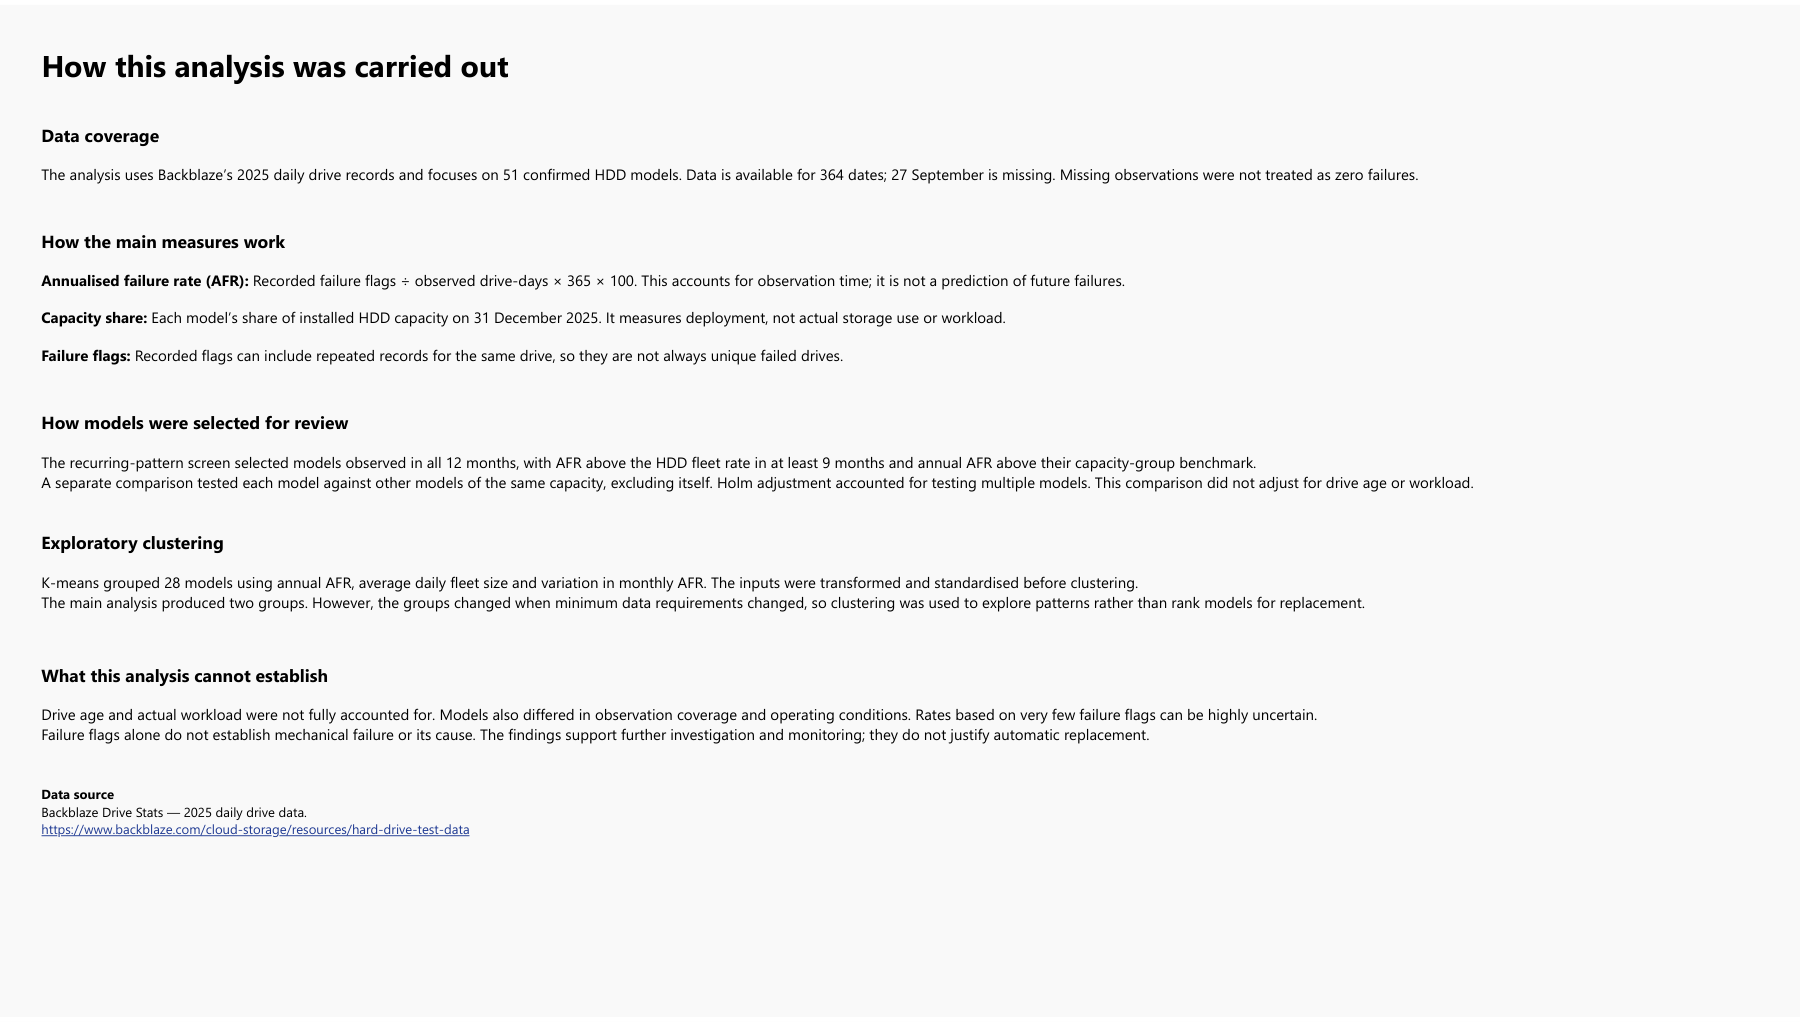

What the dashboard file says about the page in this screenshot:
{"tool":"powerbi","page":{"name":"Methodology & Limitations ","canvas":[1920,1080],"ordinal":4},"visuals":[{"type":"textbox","box":[43.8,42.2,512.5,103.1],"z":0},{"type":"textbox","box":[43.9,125.8,1475.8,90.9],"z":1},{"type":"textbox","box":[43.9,239.4,1801.5,166.7],"z":2},{"type":"textbox","box":[43.9,560.6,1737.9,127.3],"z":3},{"type":"textbox","box":[43.9,701.5,1737.9,109.1],"z":4},{"type":"textbox","box":[43.9,433.3,1801.5,106.1],"z":5},{"type":"textbox","box":[43.9,831.8,1737.9,68.2],"z":6}]}

Visuals, with their boxes in screenshot pixels (x1, y1, x2, y2), scaled from the page's 1920x1080 canvas onto the 1800x1022 screenshot:
textbox: (x1=41, y1=40, x2=522, y2=137)
textbox: (x1=41, y1=119, x2=1425, y2=205)
textbox: (x1=41, y1=227, x2=1730, y2=384)
textbox: (x1=41, y1=530, x2=1670, y2=651)
textbox: (x1=41, y1=664, x2=1670, y2=767)
textbox: (x1=41, y1=410, x2=1730, y2=510)
textbox: (x1=41, y1=787, x2=1670, y2=852)
